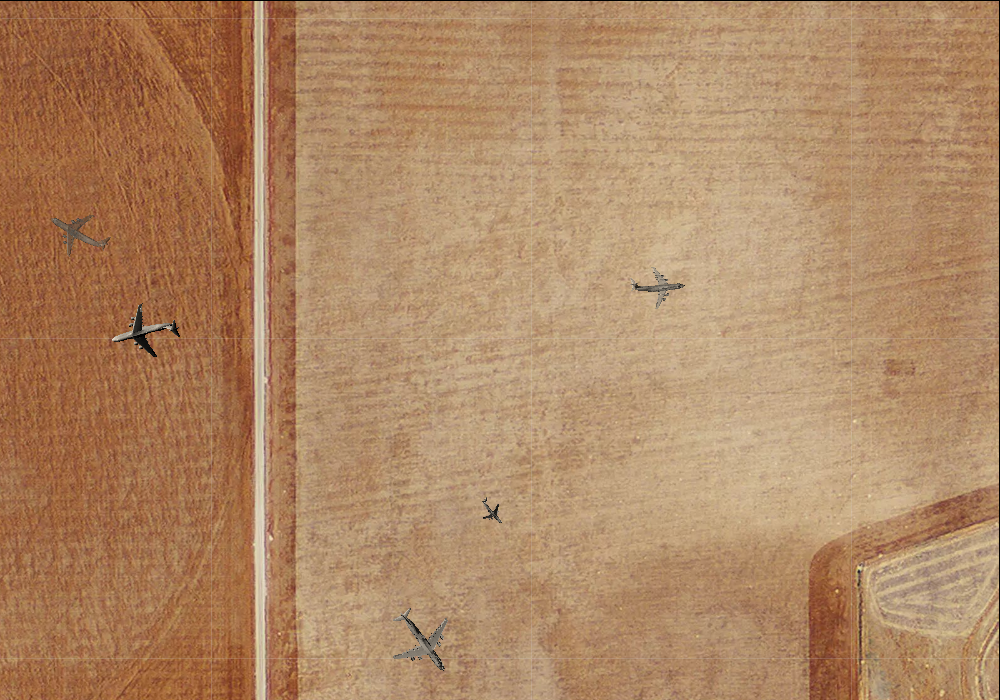plane: (373, 592, 470, 691), (37, 191, 120, 272), (103, 293, 186, 373), (627, 258, 686, 312), (472, 491, 512, 531)
